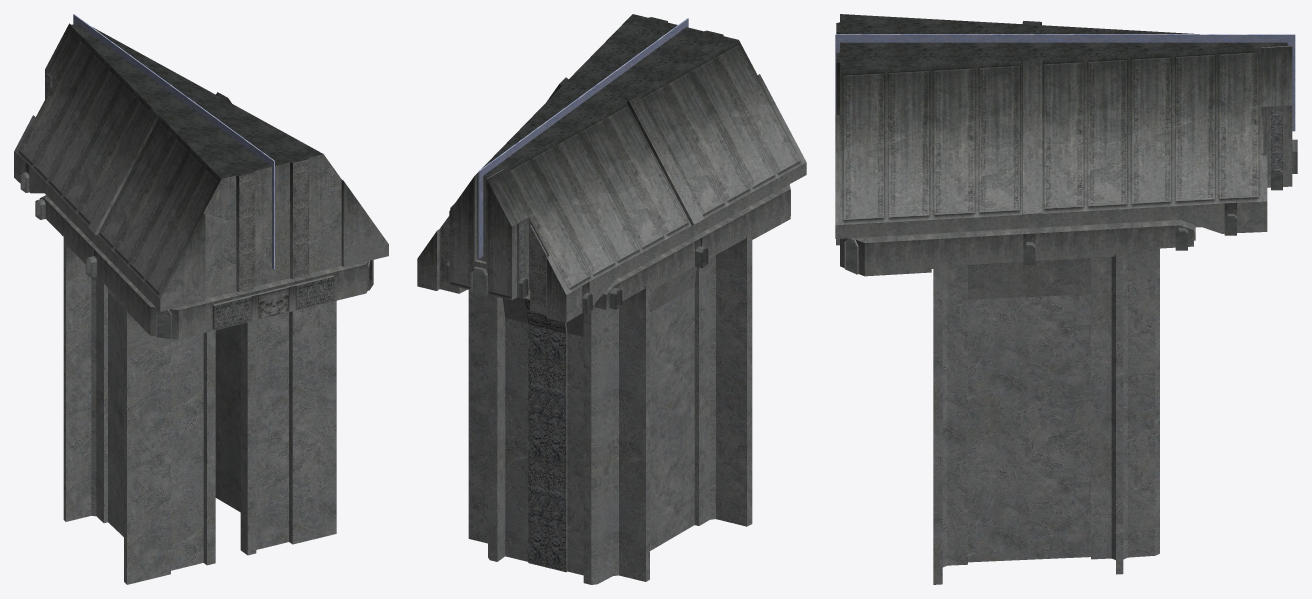
Rendered from thm_yavn_jedi_enclave_dark_r17_mainroom_mesh.fbx.
3 renders of one model, left to right at view 1: azimuth 30°, elevation 25°; view 2: azimuth 150°, elevation 25°; view 3: azimuth 270°, elevation 25°, orthographic. The views are drawn at different scales.
Parts seen in each view (by area): view 1: mesh_node; view 2: mesh_node; view 3: mesh_node.
Part boxes in pixels (x1=…): mesh_node: x1=14, y1=14, x2=388, y2=584; mesh_node: x1=417, y1=14, x2=806, y2=584; mesh_node: x1=835, y1=14, x2=1297, y2=584.
Size of the model in its own units: 49.49 by 88.92 by 75.82.
